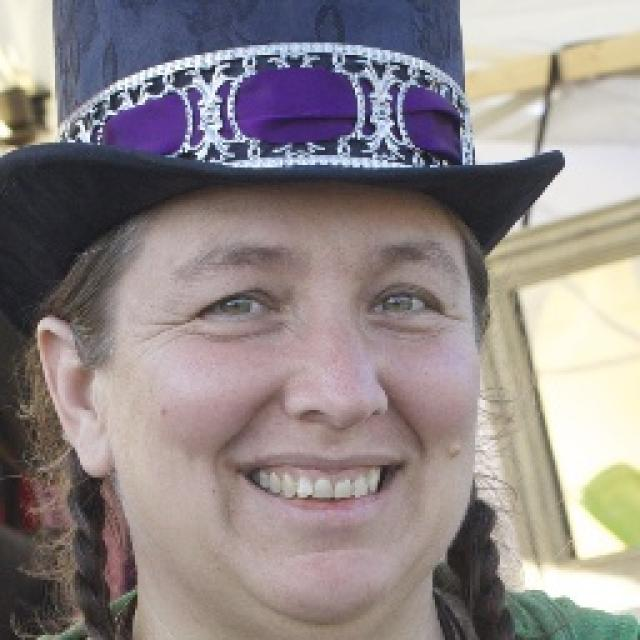earlobe: (73, 426, 115, 478)
eye: (191, 291, 282, 323), (367, 290, 443, 318)
nose: (285, 407, 390, 447)
wholeear: (34, 316, 115, 479)
